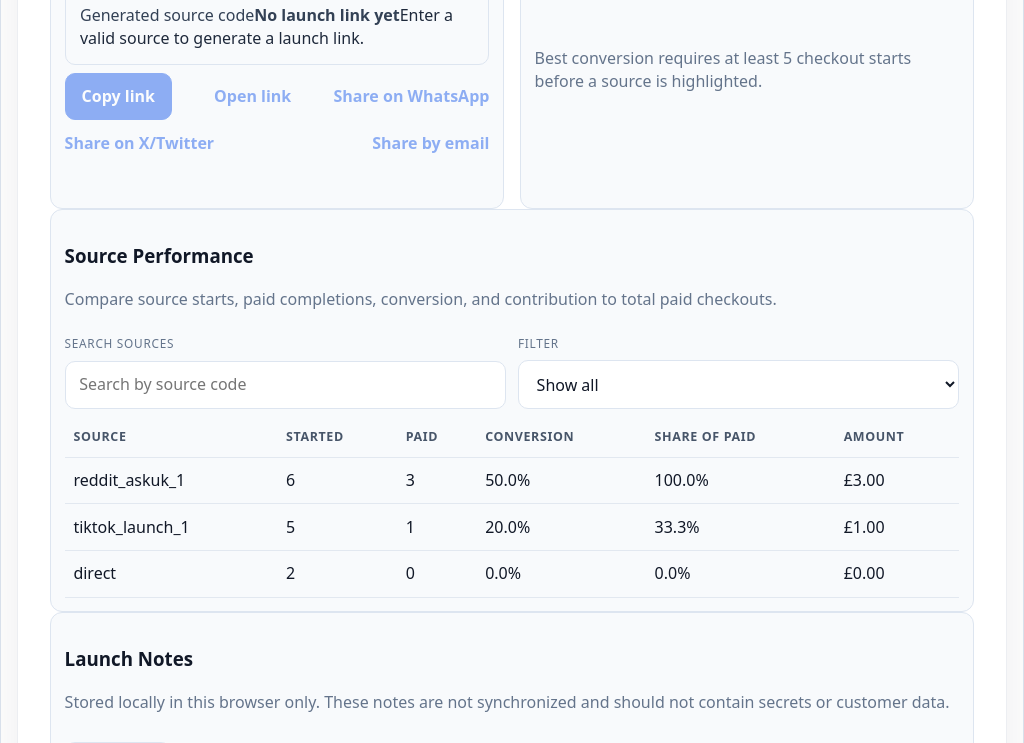
Scenario: DashboardPage handoff precedence › renders launch toolkit metrics and filters source performance
(page scrolled)
Expected: the text "Source Performance" is shown, [65,243,254,268]
Type "tiktok" into the field labelled "Search sources" at (285, 385), box [65,360,506,409]
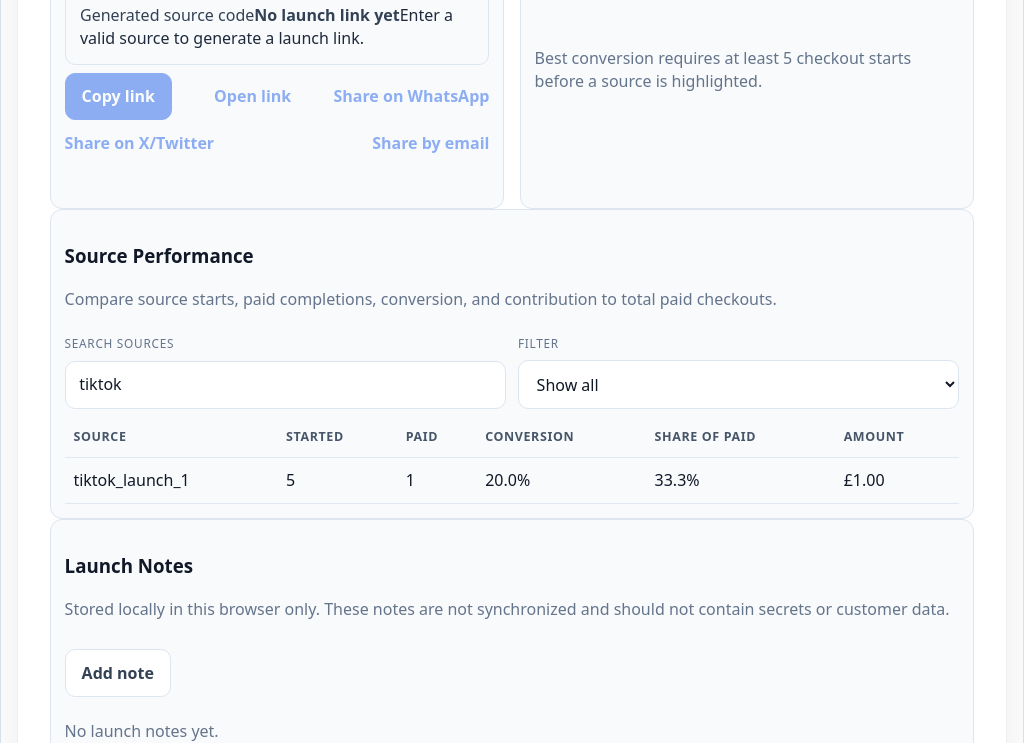
Expected: the text "tiktok_launch_1" is shown, [65,457,277,504]
Expected: the text "reddit_askuk_1" is not shown
Select "Zero completed payments" in the dropdown labelled "Filter" at (739, 385), box [518,360,959,409]
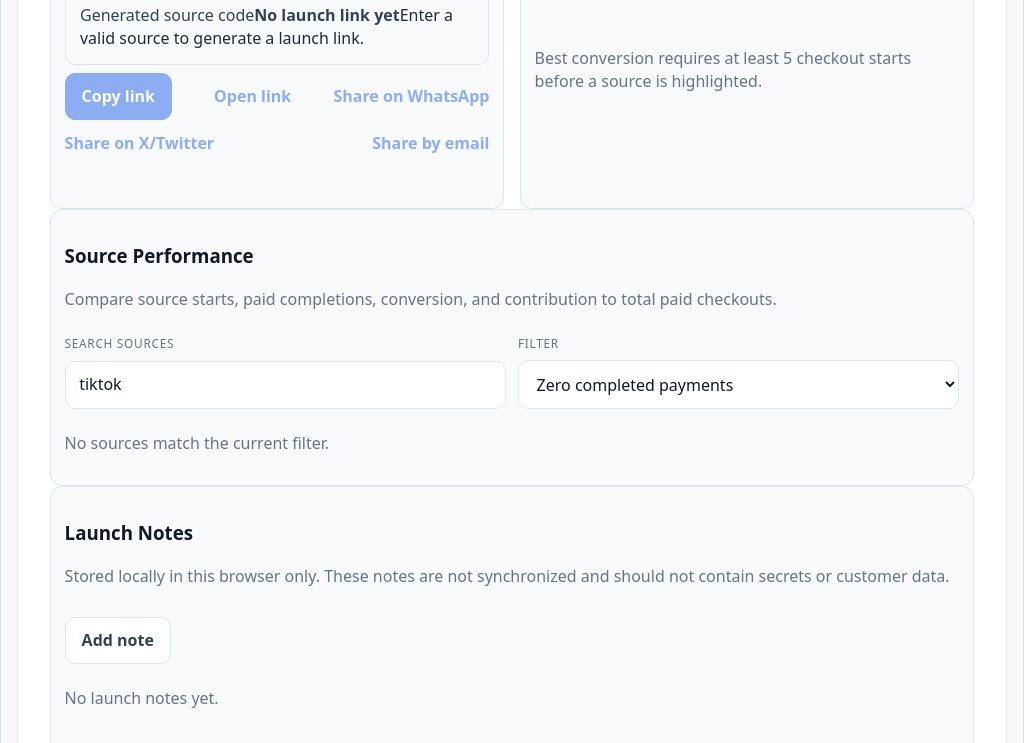
Clear the field labelled "Search sources" at (285, 385), box [65,360,506,409]
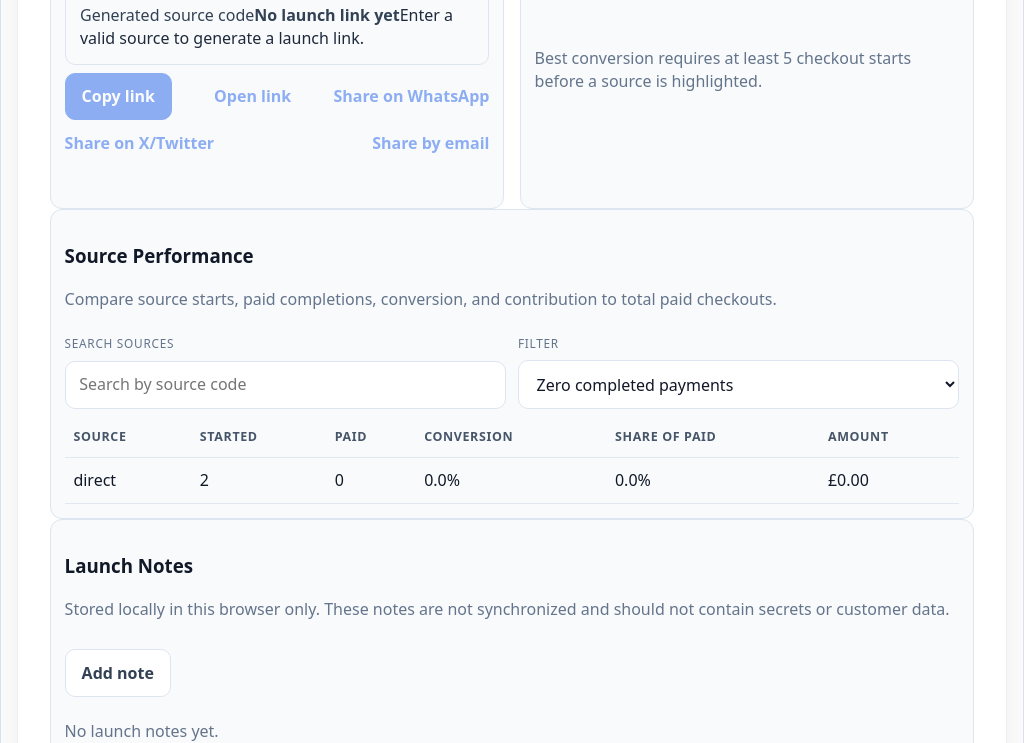
Expected: the text "tiktok_launch_1" is not shown
Expected: the text "direct" is shown, [65,457,191,504]
